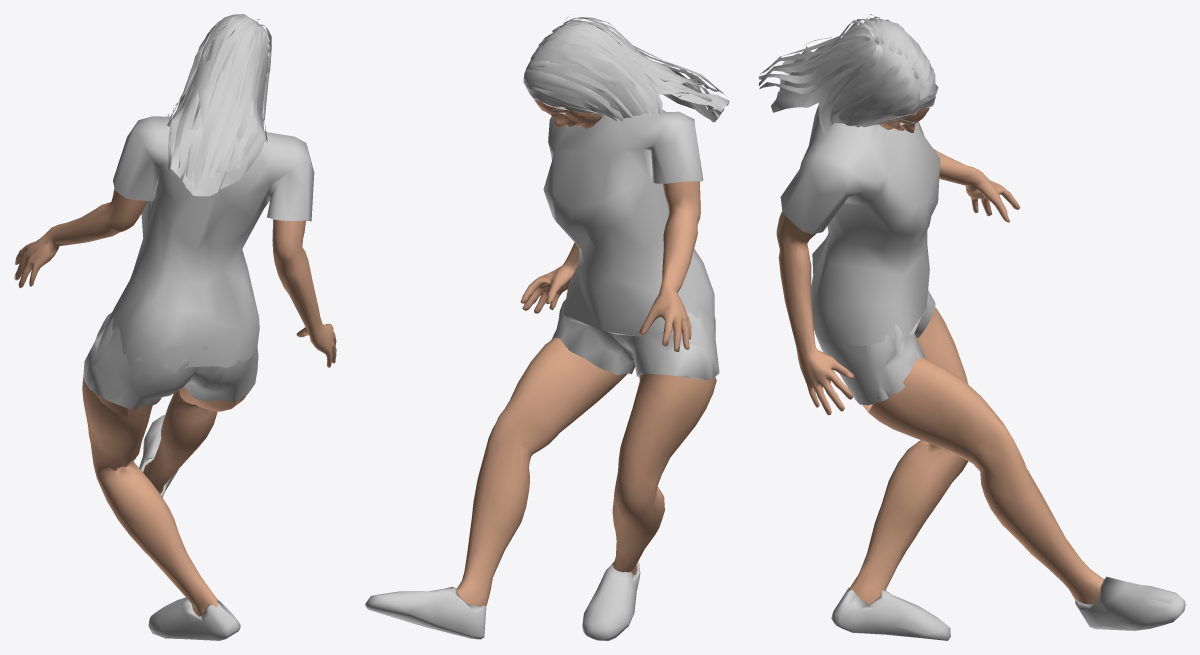
The model's file is player2att_000027.obj.
The picture shows the model from 3 angles, left to right: view 1: azimuth 30°, elevation 25°; view 2: azimuth 150°, elevation 25°; view 3: azimuth 270°, elevation 25°; orthographic projection. The views are drawn at different scales.
Visible parts, largest first — view 1: player2:tshirt02, player2:Body, player2:fhair01, player2:short01, player2:shoes02; view 2: player2:Body, player2:tshirt02, player2:fhair01, player2:shoes02, player2:short01; view 3: player2:Body, player2:tshirt02, player2:fhair01, player2:shoes02, player2:short01.
Part boxes in pixels (bbox=[...]): player2:tshirt02: bbox=[106, 116, 314, 375]; player2:Body: bbox=[14, 136, 336, 616]; player2:fhair01: bbox=[167, 14, 271, 196]; player2:short01: bbox=[83, 312, 258, 409]; player2:shoes02: bbox=[139, 415, 240, 640]; player2:Body: bbox=[456, 99, 716, 606]; player2:tshirt02: bbox=[543, 109, 714, 336]; player2:fhair01: bbox=[523, 16, 729, 122]; player2:shoes02: bbox=[365, 561, 640, 640]; player2:short01: bbox=[552, 299, 719, 379]; player2:Body: bbox=[776, 107, 1104, 604]; player2:tshirt02: bbox=[780, 105, 940, 345]; player2:fhair01: bbox=[758, 14, 938, 133]; player2:shoes02: bbox=[831, 577, 1185, 640]; player2:short01: bbox=[814, 290, 935, 405].
Size of the model in its own units: 6.44 by 15.22 by 9.14.
